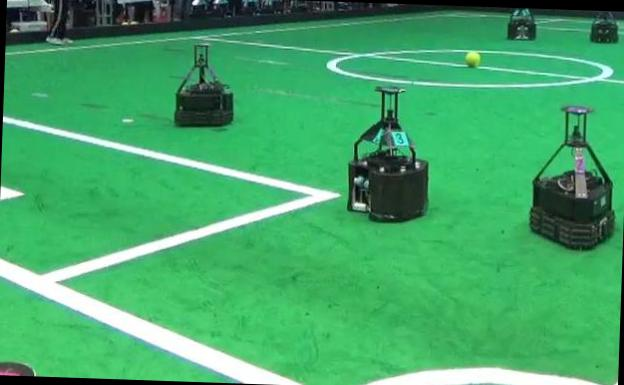ball: (464, 50, 480, 66)
person: (45, 0, 72, 44)
robot: (529, 105, 613, 247), (347, 86, 427, 219), (174, 43, 232, 124), (507, 7, 535, 39), (590, 16, 617, 41)
